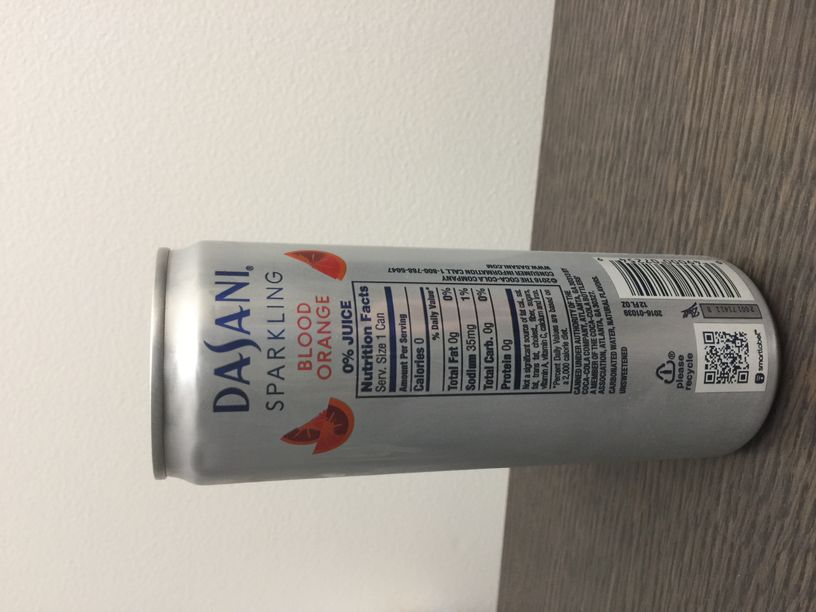orange: (138, 234, 798, 489)
